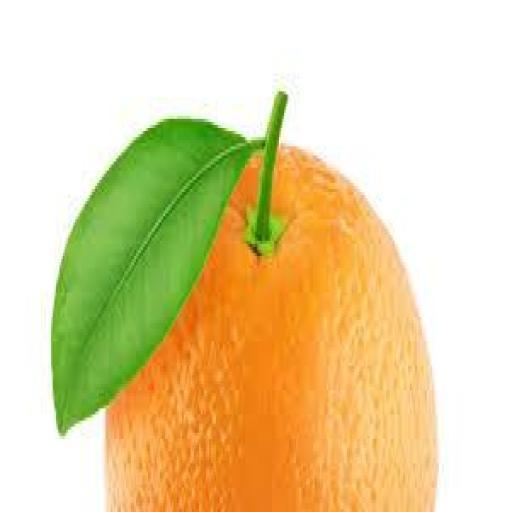orange: (106, 150, 437, 511)
